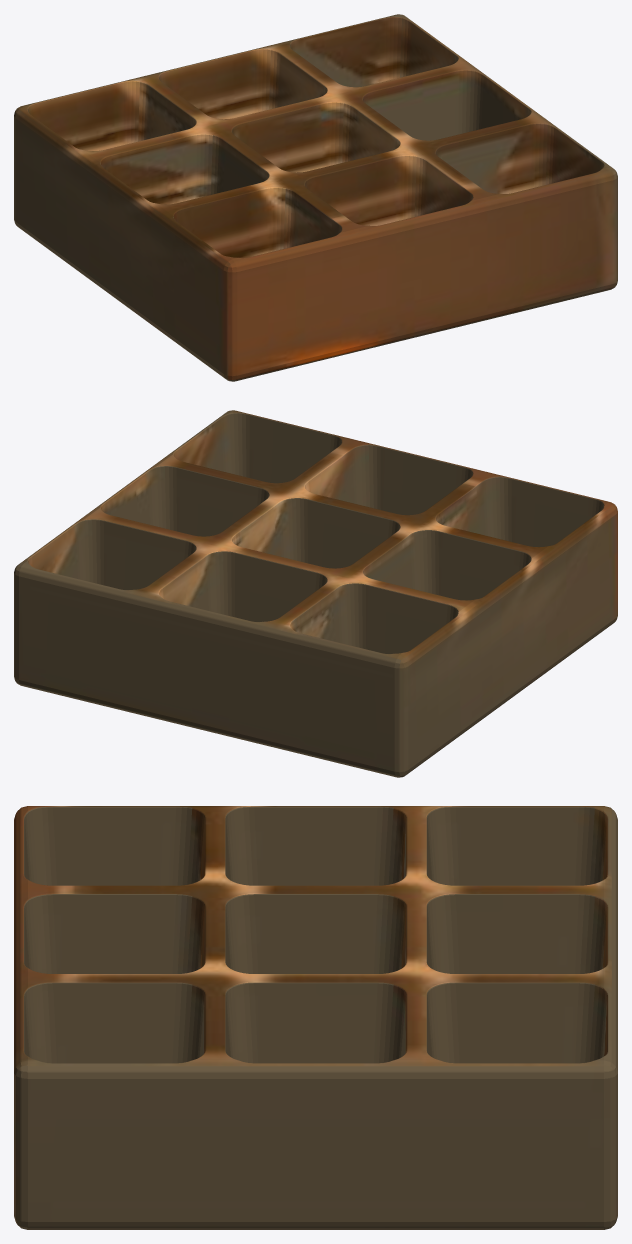
The picture shows the model from 3 angles, top to bottom: view 1: azimuth 30°, elevation 25°; view 2: azimuth 150°, elevation 25°; view 3: azimuth 270°, elevation 25°; orthographic projection. The views are drawn at different scales.
Visible parts, largest first — view 1: molded tray with rounded wells; view 2: molded tray with rounded wells; view 3: molded tray with rounded wells.
Part boxes in pixels (<box>): molded tray with rounded wells: <box>14,14,617,381</box>; molded tray with rounded wells: <box>14,410,617,777</box>; molded tray with rounded wells: <box>14,806,617,1229</box>.
Size of the model in its own units: 0.1273 by 0.0377 by 0.1225.
Materials: 1 (1 with a texture image).
